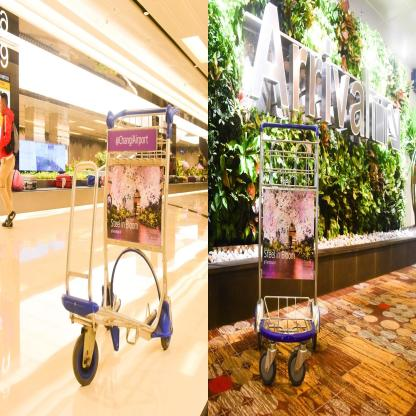airport-trolley: (59, 103, 180, 388), (253, 121, 322, 388)
